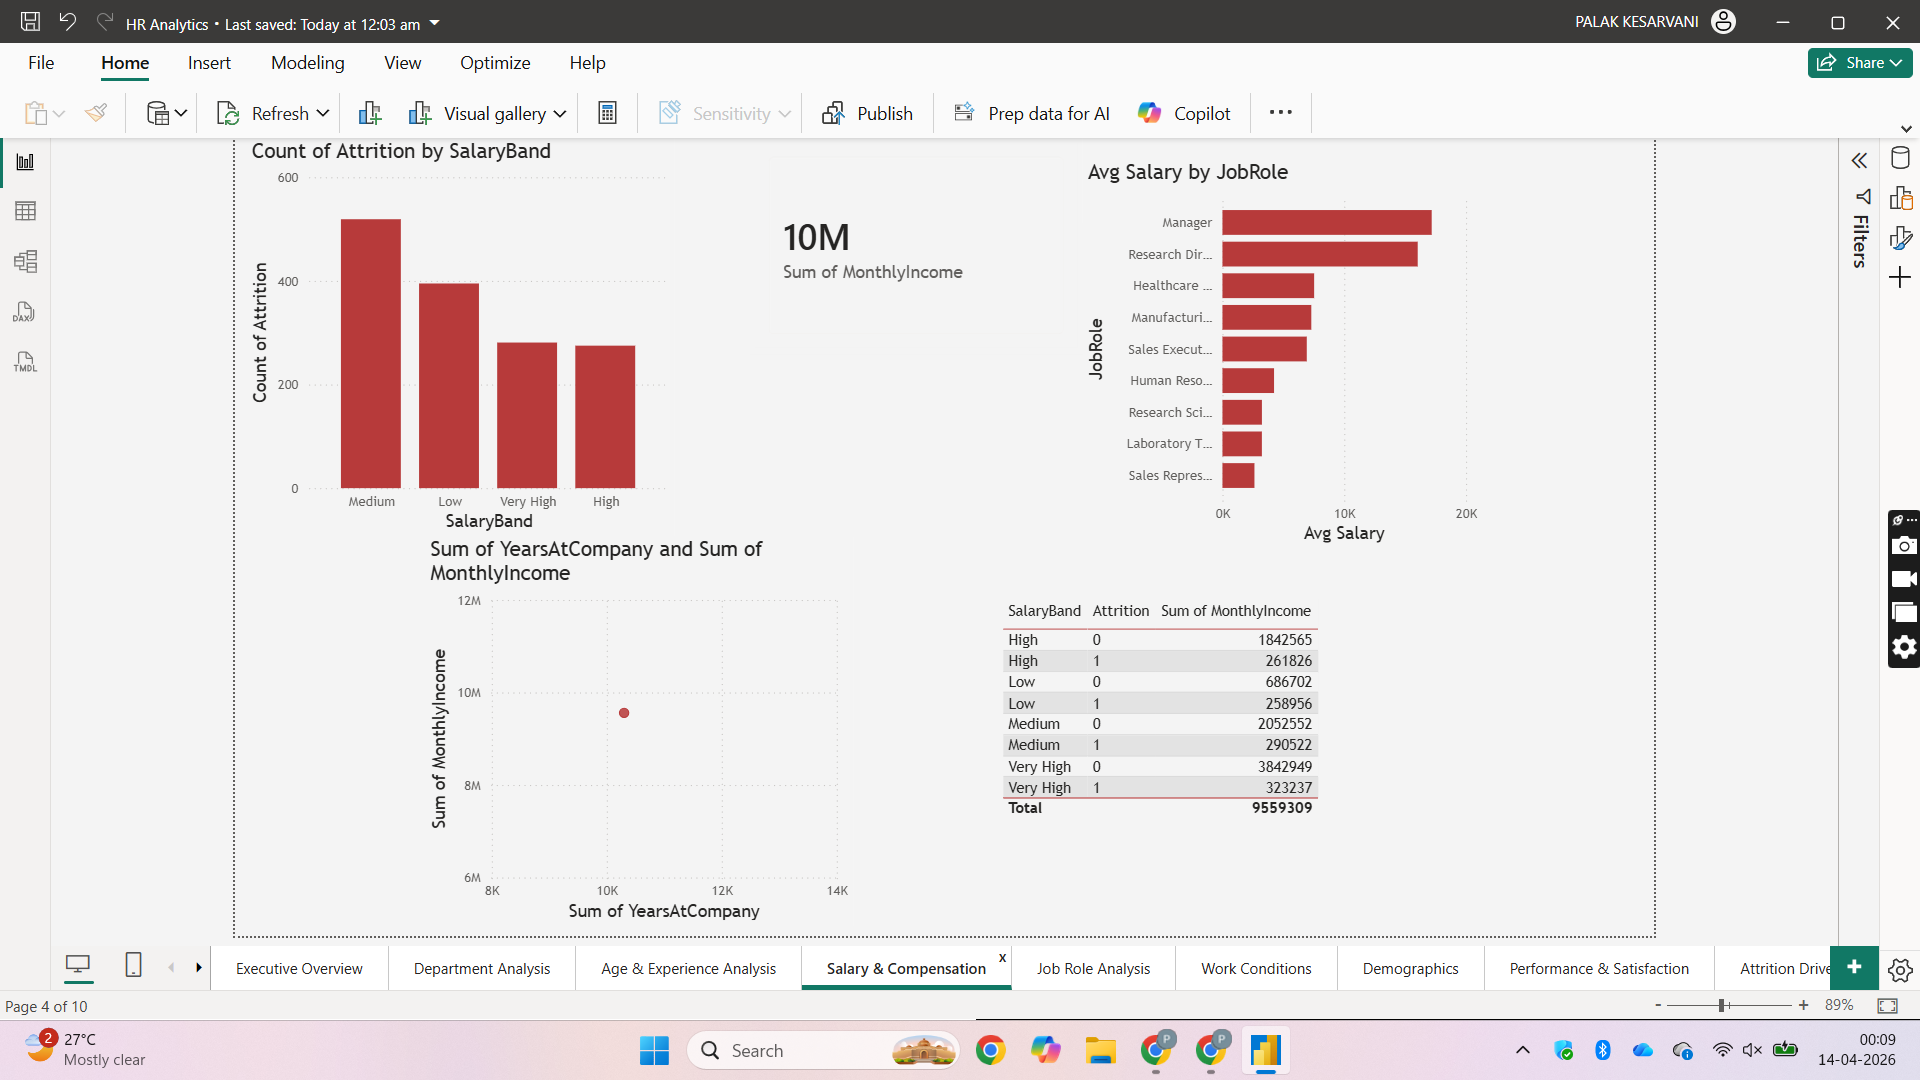

The page's visual inventory and layout, read from the dashboard file:
{"tool":"powerbi","page":{"name":"Salary & Compensation","canvas":[1280,720],"ordinal":3},"visuals":[{"type":"columnChart","fields":{"Category":["cleaned_data.SalaryBand"],"Y":["CountNonNull(cleaned_data.Attrition)"]},"box":[10.2,0,386.4,359.3],"z":0},{"type":"cardVisual","fields":{"Data":["Sum(cleaned_data.MonthlyIncome)"]},"box":[464.4,0,300,194.9],"z":1000},{"type":"scatterChart","fields":{"X":["Sum(cleaned_data.YearsAtCompany)"],"Y":["Sum(cleaned_data.MonthlyIncome)"]},"box":[171.2,359.3,386.4,350.8],"z":2000},{"type":"barChart","fields":{"Category":["cleaned_data.JobRole"],"Y":["cleaned_data.Avg Salary"]},"box":[764.4,18.6,361,350.8],"z":3000},{"type":"tableEx","fields":{"Values":["cleaned_data.SalaryBand","cleaned_data.Attrition","Sum(cleaned_data.MonthlyIncome)"]},"box":[686.4,411.9,323.7,245.8],"z":4000}]}

Visuals, with their boxes on the page's 1280x720 design canvas (x1, y1, x2, y2). These are canvas units, not pixel positions in the 1920x1080 screenshot, which may show the page scaled, cropped or inside an application window:
columnChart - cleaned_data.SalaryBand x CountNonNull(cleaned_data.Attrition): region(10, 0, 397, 359)
cardVisual - Sum(cleaned_data.MonthlyIncome): region(464, 0, 764, 195)
scatterChart - Sum(cleaned_data.YearsAtCompany) x Sum(cleaned_data.MonthlyIncome): region(171, 359, 558, 710)
barChart - cleaned_data.JobRole x cleaned_data.Avg Salary: region(764, 19, 1125, 369)
tableEx - cleaned_data.SalaryBand x cleaned_data.Attrition: region(686, 412, 1010, 658)
